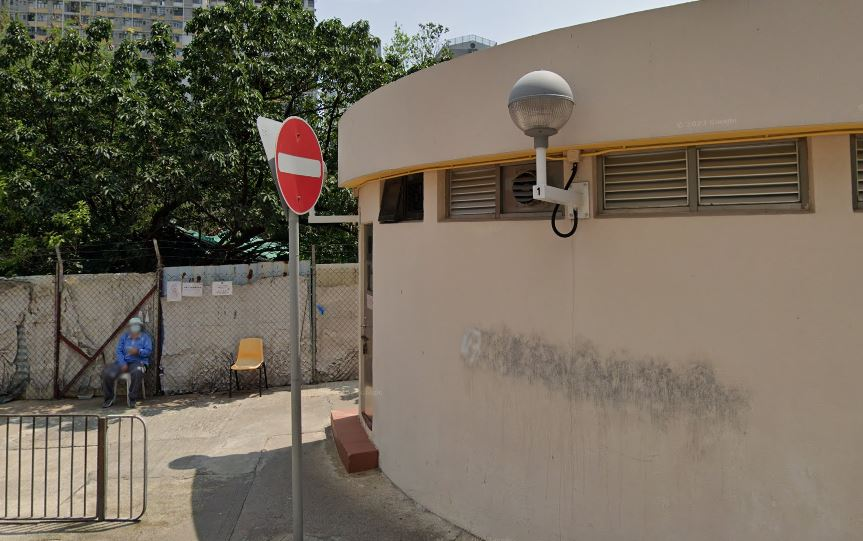No Enter: (271, 122, 326, 218)
